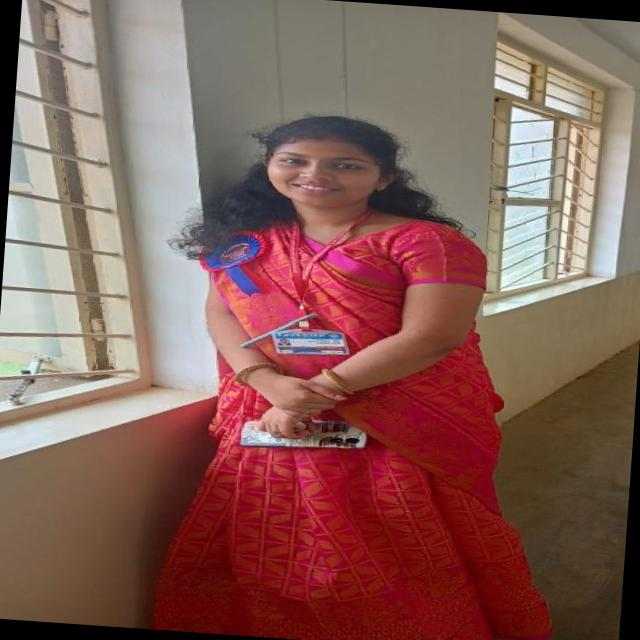id_card: (267, 194, 360, 357)
